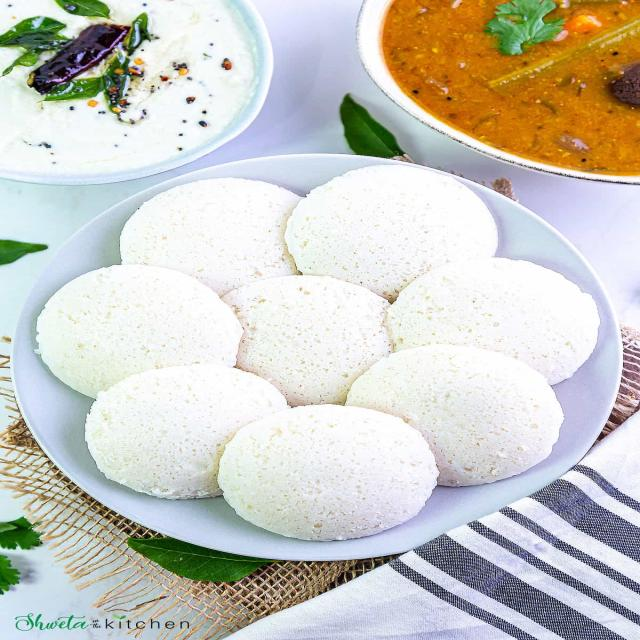IDLI: (346, 345, 563, 487), (218, 405, 439, 540), (285, 164, 498, 301), (35, 265, 243, 398), (85, 365, 290, 499), (387, 258, 599, 384), (222, 276, 391, 406), (120, 178, 301, 297)
